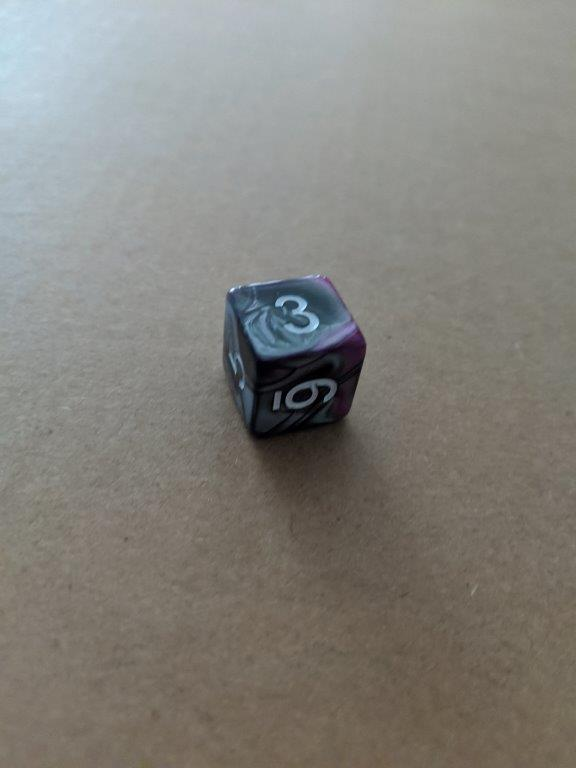d6-3: (221, 275, 365, 441)
